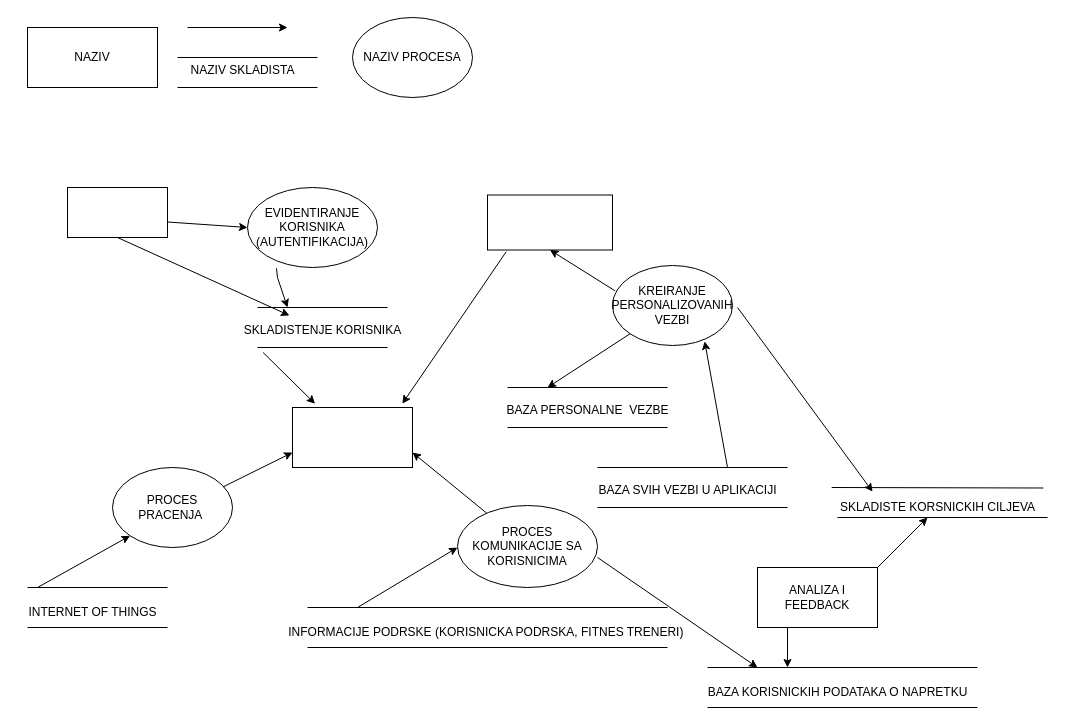
The diagram is 1066 pixels wide and 726 high, and some of its shapes have lost their labels. The box of each missing label's shape, as (x1, y1, x2, y2) in pixels:
IZVESTAJ O VEZBI: (292, 406, 412, 468)
LOGOVANJE KORISNIKA: (66, 186, 168, 238)
PLAN VEZBE: (486, 194, 612, 250)
